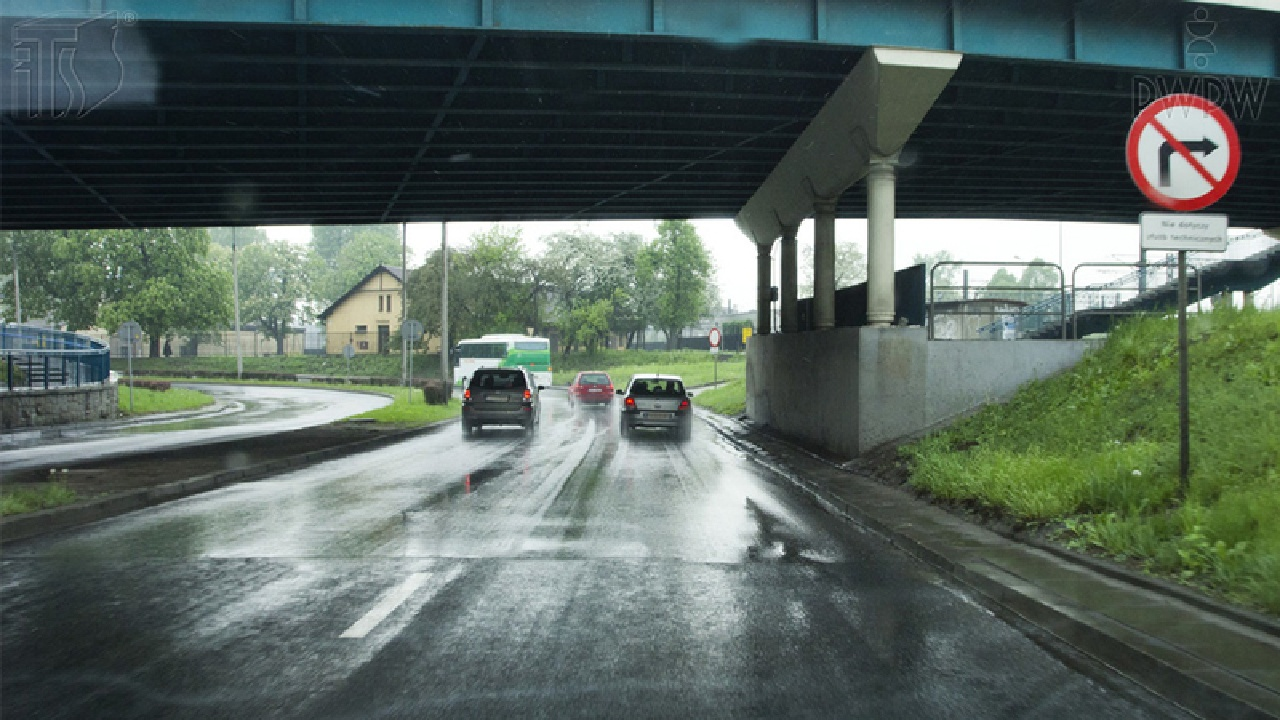B22: (1124, 96, 1240, 210)
